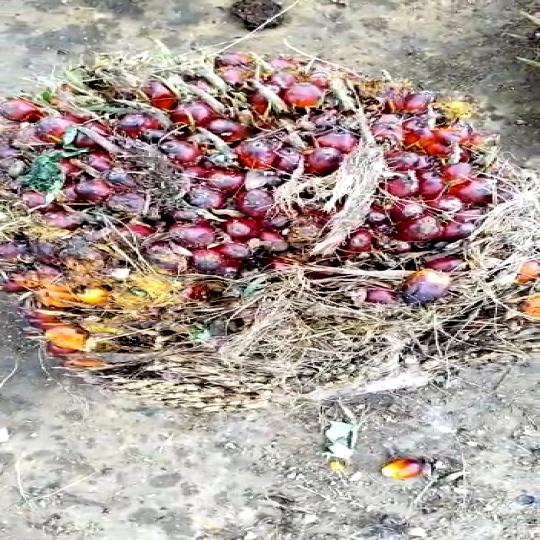masak: (0, 60, 540, 404)
